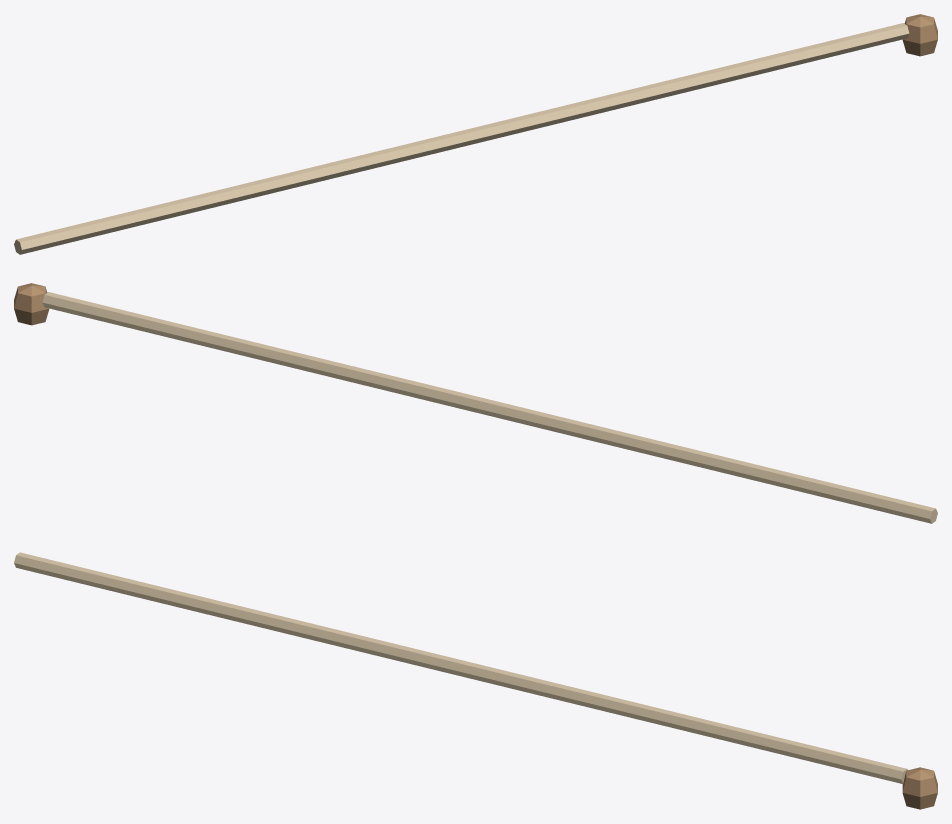
File: prop-mahlstick-blank.fbx
3 views of the same model, one above another, from view 1: azimuth 30°, elevation 25°; view 2: azimuth 150°, elevation 25°; view 3: azimuth 330°, elevation 25° (orthographic).
Parts seen in each view (by area): view 1: prop-mahlstick-blank; view 2: prop-mahlstick-blank; view 3: prop-mahlstick-blank.
Part boxes in pixels (left/top/right/bottom): prop-mahlstick-blank: left=14, top=14, right=937, bottom=254; prop-mahlstick-blank: left=14, top=283, right=937, bottom=523; prop-mahlstick-blank: left=14, top=552, right=937, bottom=809.
Bounding box in the file's own units: 93.3 × 3.6 × 3.12.
